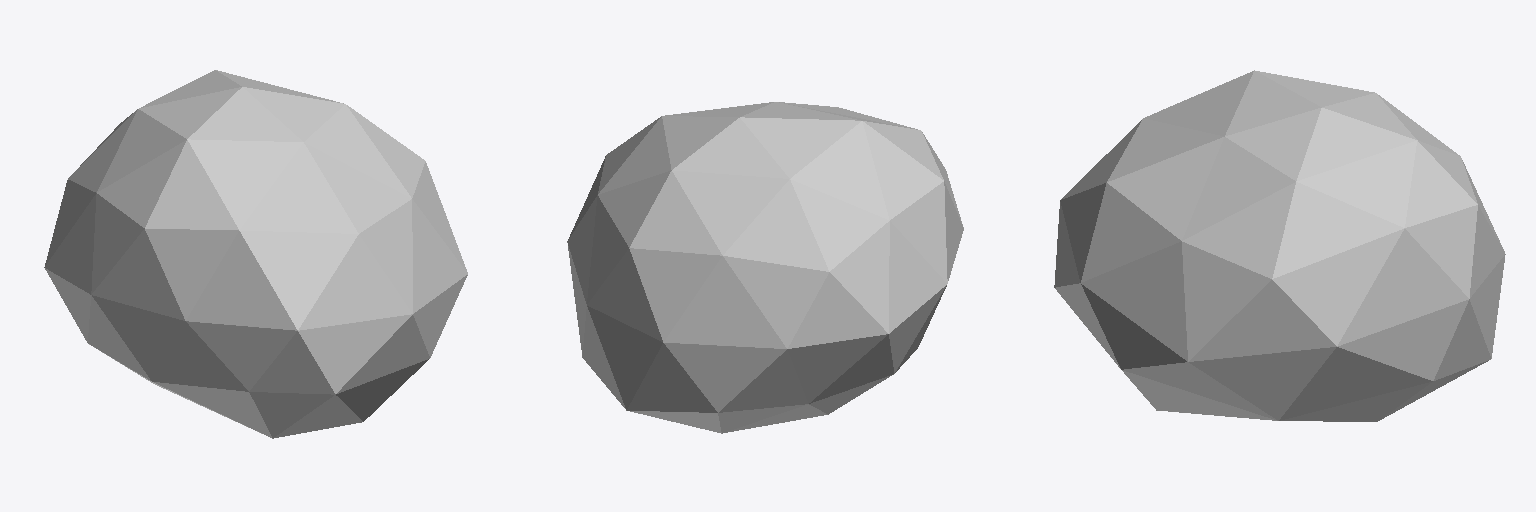
File: stone.obj
The picture shows the model from 3 angles: view 1: azimuth 30°, elevation 25°; view 2: azimuth 150°, elevation 25°; view 3: azimuth 270°, elevation 25°; orthographic projection.
Visible parts, largest first — view 1: Cube; view 2: Cube; view 3: Cube.
Boxes of the visible parts, box(x1,y1,x2,y2) form: Cube: box(44, 70, 467, 438); Cube: box(567, 102, 963, 433); Cube: box(1054, 70, 1505, 421).
Bounding box in the file's own units: 2.47 × 2.09 × 2.8.